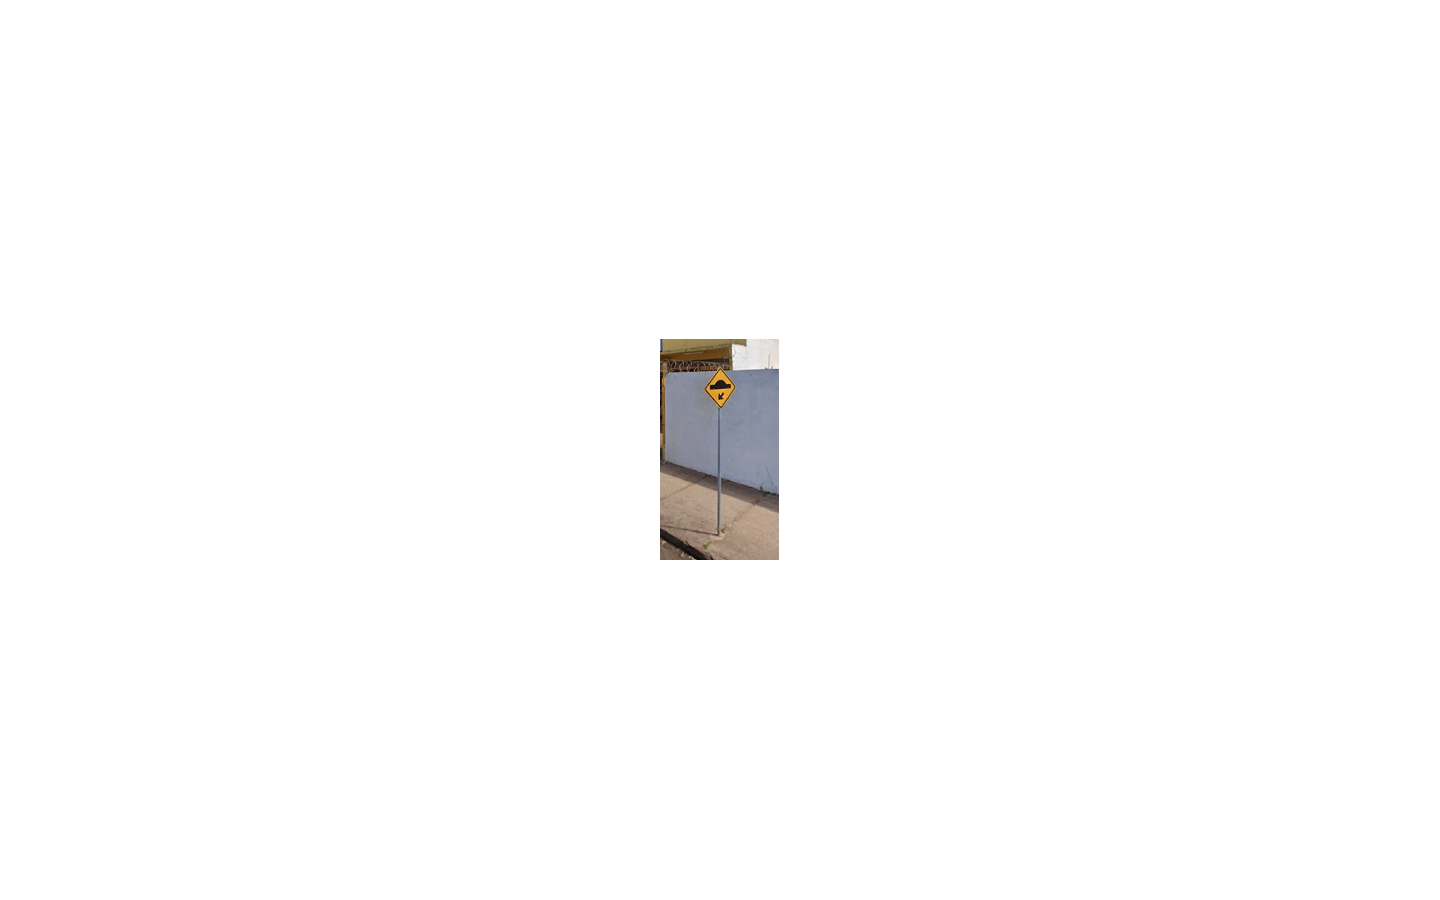lomb: (705, 367, 735, 407)
